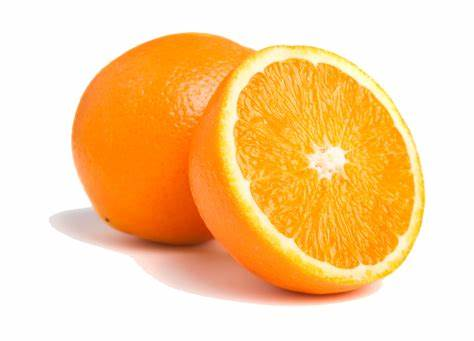Orange: (65, 25, 287, 256)
